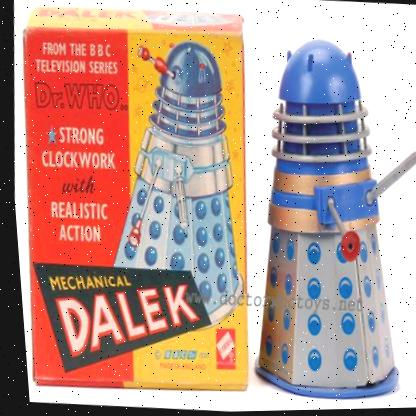dalek: (227, 24, 416, 411), (80, 29, 269, 365)
